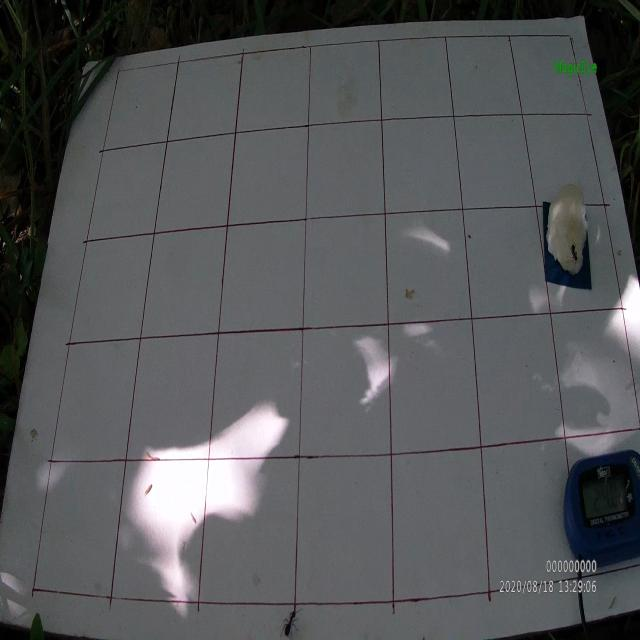Ant: (280, 604, 304, 638), (569, 238, 580, 264)
